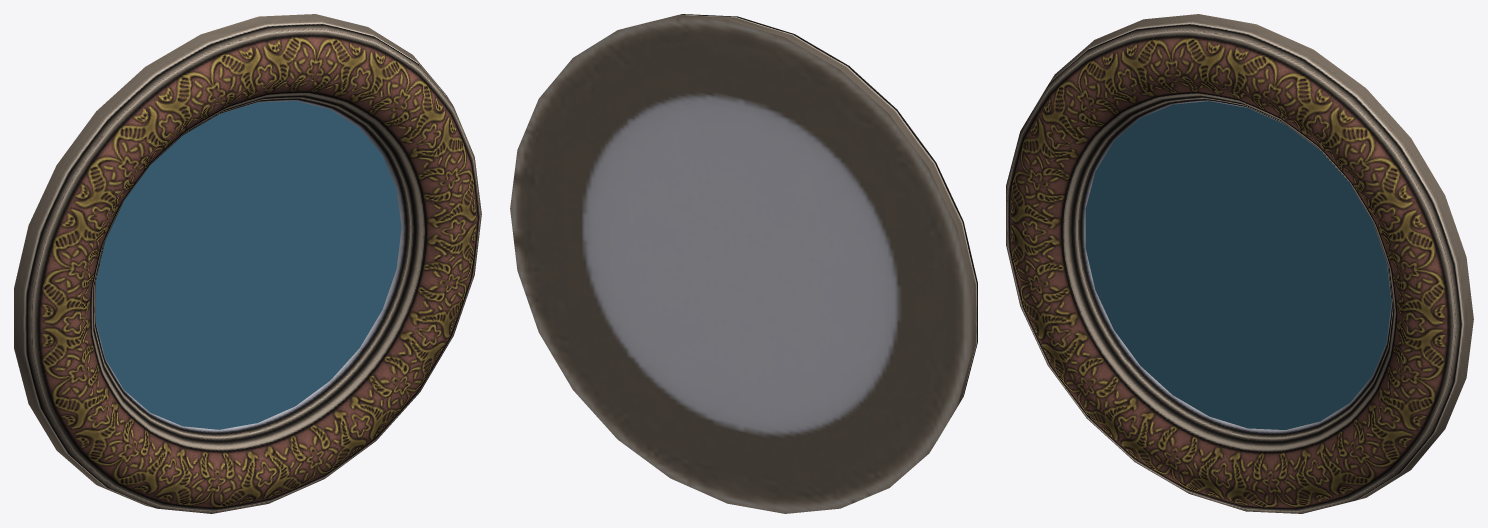
File: Mirror02.FBX
3 renders of one model, left to right at view 1: azimuth 30°, elevation 25°; view 2: azimuth 150°, elevation 25°; view 3: azimuth 330°, elevation 25°, orthographic.
Visible parts, largest first — view 1: Mirror02; view 2: Mirror02; view 3: Mirror02.
Part boxes in pixels (x1=…): Mirror02: x1=14, y1=14, x2=481, y2=513; Mirror02: x1=510, y1=14, x2=977, y2=513; Mirror02: x1=1006, y1=14, x2=1473, y2=513.
Size of the model in its own units: 157 by 157 by 12.72.
